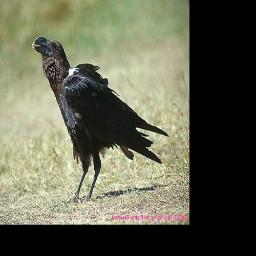Crow: (31, 36, 169, 202)
